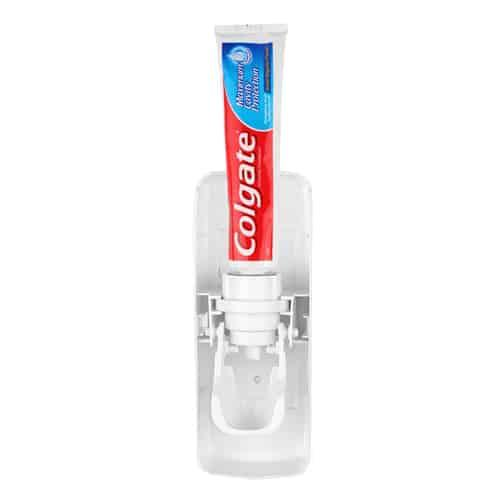toothpaste: (207, 8, 301, 344)
